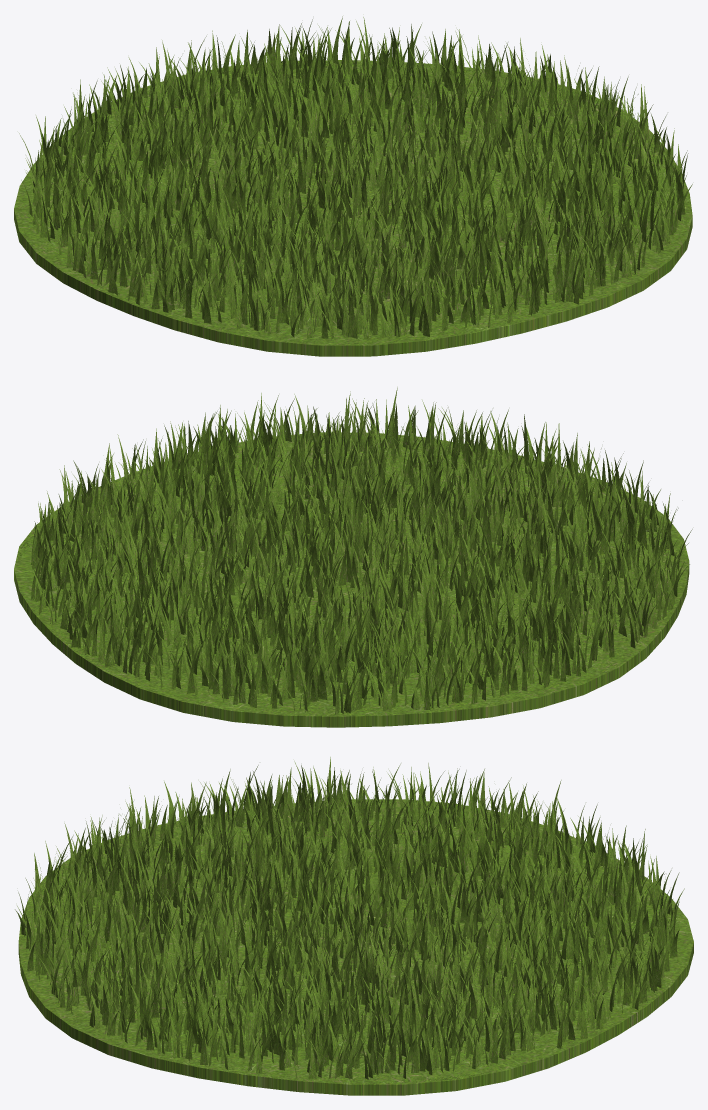
Rendered from Turf_Medium.fbx.
3 views of the same model, one above another, from view 1: azimuth 30°, elevation 25°; view 2: azimuth 150°, elevation 25°; view 3: azimuth 270°, elevation 25° (orthographic).
Visible parts, largest first — view 1: Turf_Medium; view 2: Turf_Medium; view 3: Turf_Medium.
Part boxes in pixels (left/top/right/bottom): Turf_Medium: left=14, top=16, right=692, bottom=356; Turf_Medium: left=14, top=387, right=692, bottom=727; Turf_Medium: left=15, top=757, right=693, bottom=1095.
Size of the model in its own units: 1.41 by 0.14 by 1.41.
1 material, 1 textured.
